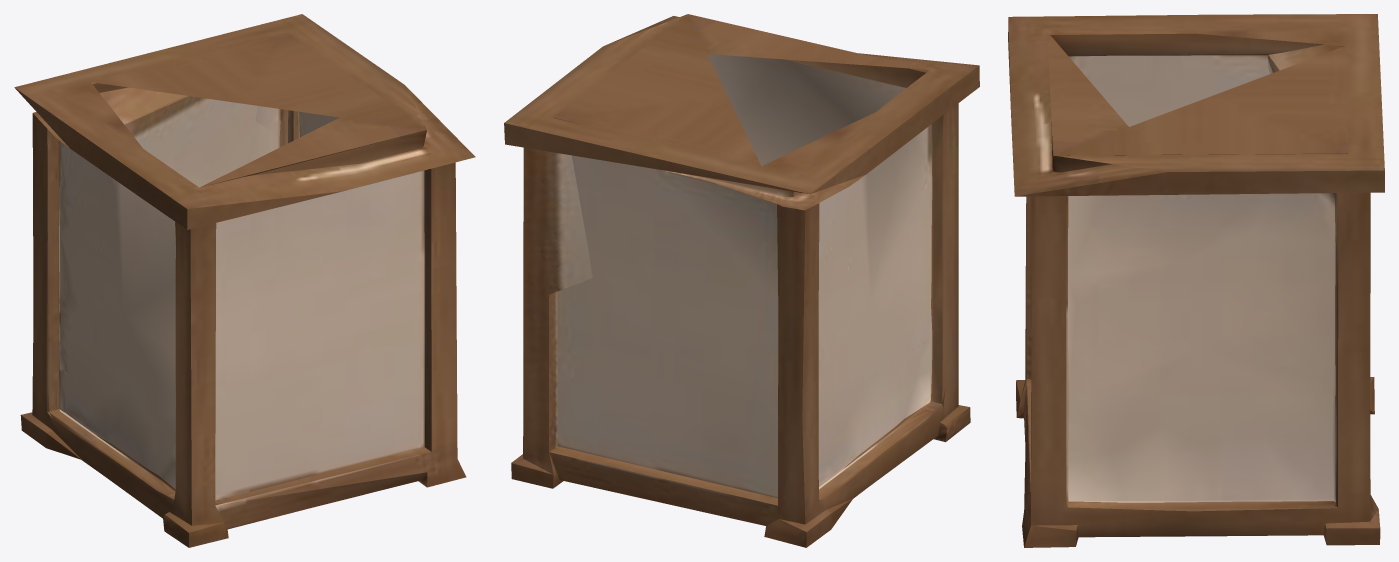
Rendered from andon.glb.
The picture shows the model from 3 angles, left to right: view 1: azimuth 30°, elevation 25°; view 2: azimuth 150°, elevation 25°; view 3: azimuth 270°, elevation 25°; orthographic projection. The views are drawn at different scales.
Visible parts, largest first — view 1: andon; view 2: andon; view 3: andon.
Boxes of the visible parts, x1,y1,x2,y2 form: andon: (14,14,475,547); andon: (504,14,979,547); andon: (1008,14,1384,547).
Bounding box in the file's own units: 0.5567 × 0.62 × 0.5572.
1 material, 1 textured.
